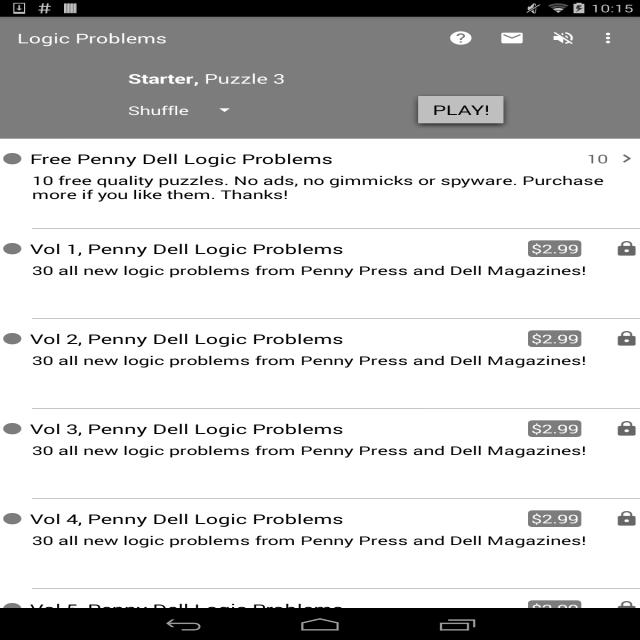Button: (410, 90, 512, 128)
ImageView: (589, 22, 631, 54), (613, 150, 640, 167), (613, 240, 640, 257), (613, 330, 640, 347), (613, 420, 640, 437), (613, 510, 640, 527), (613, 600, 640, 617)
Spinner: (128, 95, 235, 125)
TextView: (32, 172, 640, 216), (32, 262, 640, 306), (32, 352, 640, 396), (32, 442, 640, 486), (32, 532, 640, 576), (30, 145, 581, 172), (30, 235, 528, 262), (30, 325, 528, 352), (30, 415, 528, 442), (30, 505, 528, 532), (30, 595, 528, 622), (128, 70, 285, 88), (17, 29, 167, 47), (128, 95, 218, 125), (487, 22, 538, 54), (436, 22, 486, 54), (538, 22, 588, 54), (528, 240, 581, 257), (528, 330, 581, 347), (528, 420, 581, 437), (528, 510, 581, 527), (528, 600, 581, 617), (582, 145, 614, 172), (582, 235, 614, 262), (582, 325, 614, 352), (582, 415, 614, 442), (582, 505, 614, 532), (582, 595, 614, 622)
